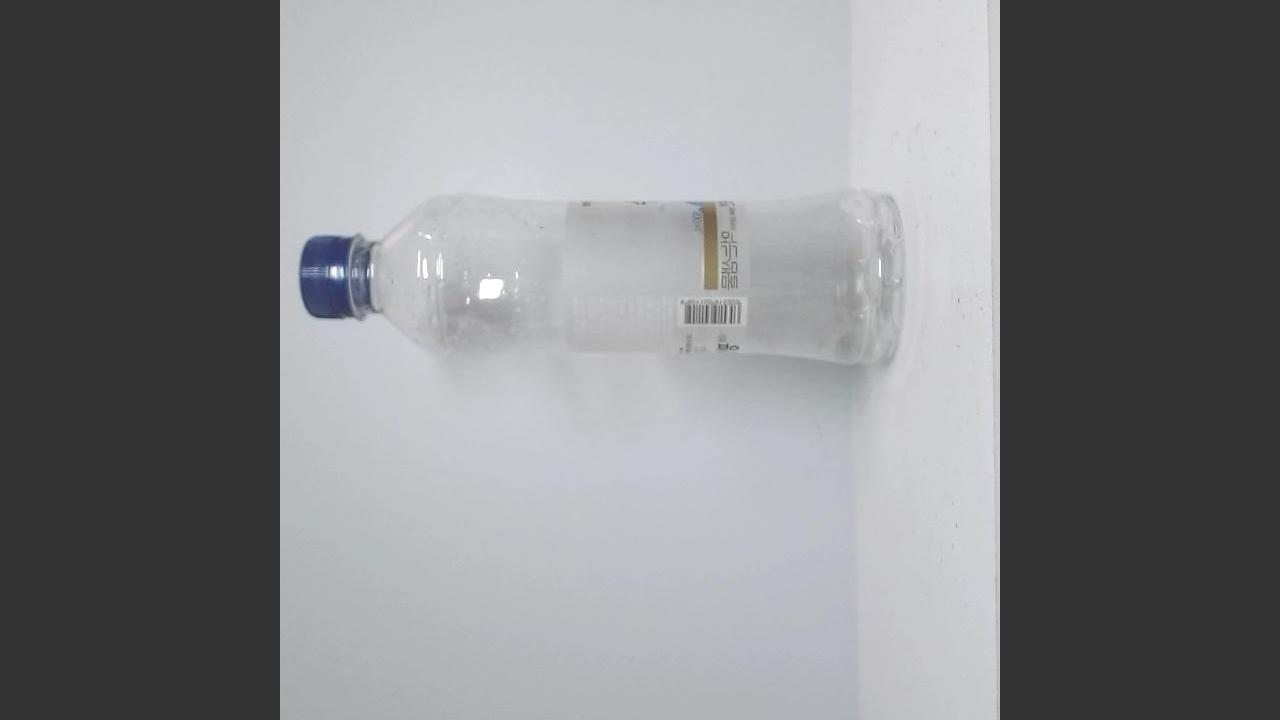bottle: (294, 182, 915, 366)
